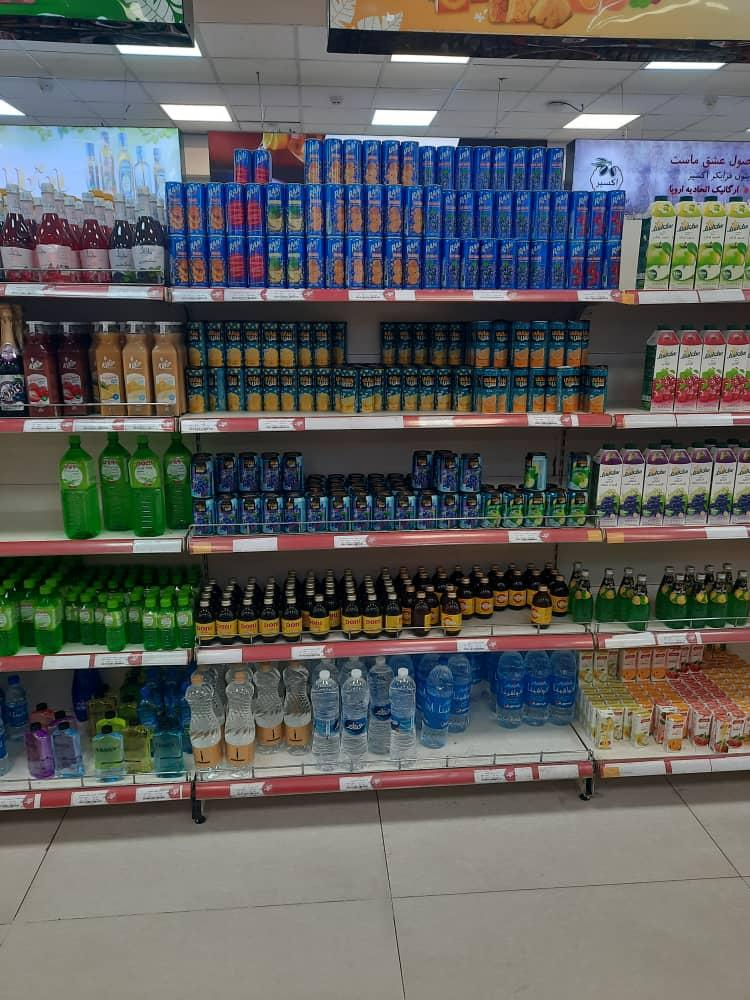Peach: (165, 183, 186, 232), (185, 185, 206, 234), (169, 238, 189, 286), (190, 240, 208, 287), (207, 186, 223, 234), (210, 239, 226, 284)
Pineapple: (269, 238, 287, 287), (287, 186, 306, 231), (267, 186, 285, 231), (289, 240, 305, 287)
